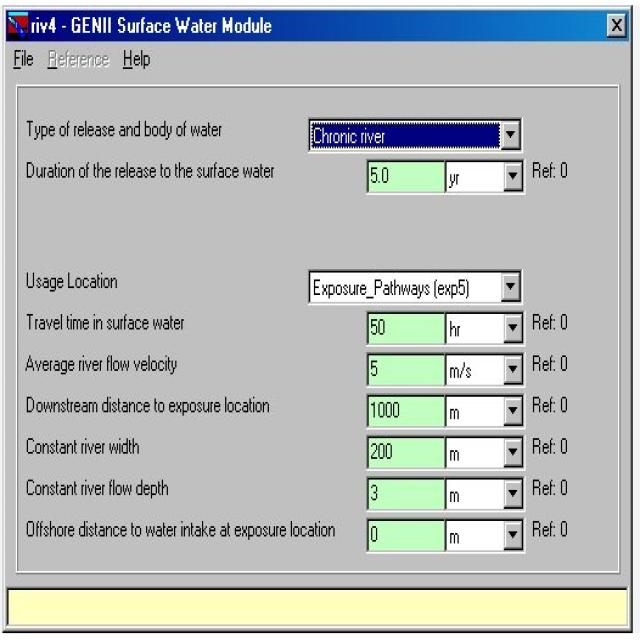button: (604, 7, 631, 40)
dropdownMenu: (305, 116, 525, 156), (304, 265, 524, 302), (364, 157, 526, 197), (367, 515, 524, 553), (364, 310, 524, 346), (368, 392, 526, 428), (368, 351, 524, 386), (366, 434, 525, 468), (366, 474, 523, 508)
icon: (4, 6, 58, 40)
input: (7, 584, 633, 632)
label: (22, 513, 340, 549), (22, 153, 278, 189), (20, 388, 276, 420), (23, 116, 220, 144), (69, 12, 278, 38), (24, 307, 194, 335), (18, 473, 175, 503), (17, 351, 182, 378), (22, 430, 149, 460), (20, 265, 122, 292), (528, 514, 578, 545), (531, 304, 573, 340), (528, 155, 578, 185), (530, 469, 574, 503), (531, 344, 574, 376), (531, 386, 573, 418), (529, 430, 573, 460)
menu: (44, 43, 114, 77), (120, 39, 158, 74), (7, 44, 40, 75)
